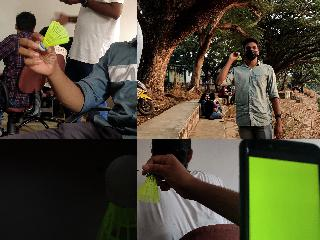shuttlecock: (90, 156, 136, 239), (38, 21, 68, 51), (137, 171, 161, 204), (236, 52, 242, 60)
